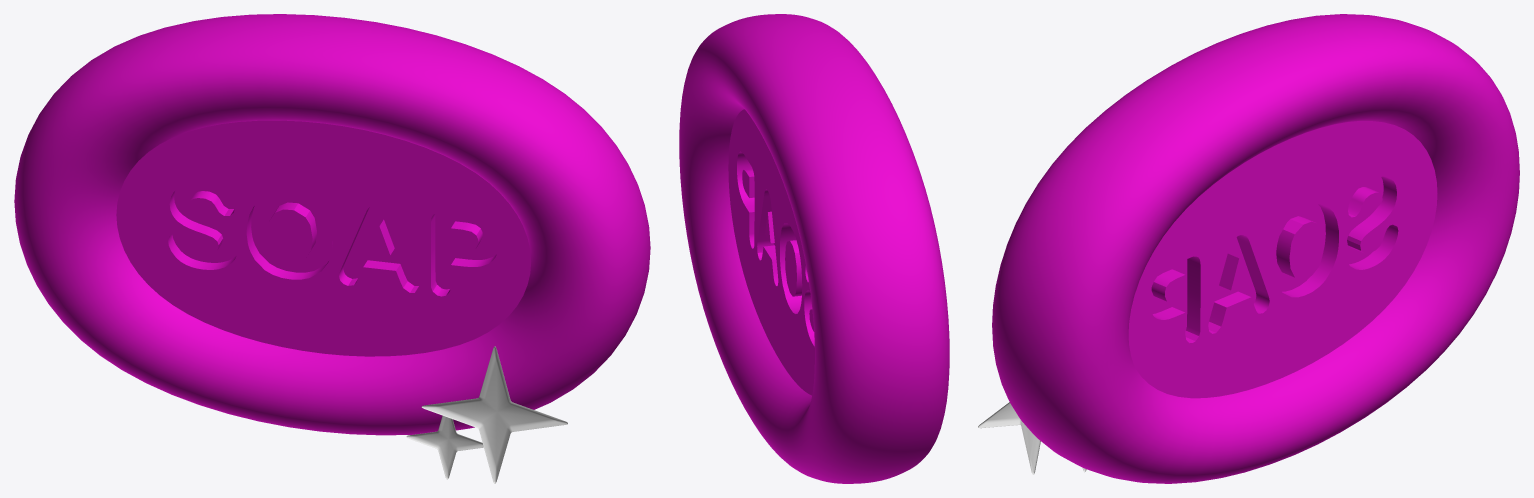
The model's file is 1. Soap.gltf.
3 renders of one model, left to right at view 1: azimuth 30°, elevation 25°; view 2: azimuth 150°, elevation 25°; view 3: azimuth 270°, elevation 25°, orthographic. The views are drawn at different scales.
Parts seen in each view (by area): view 1: Plane.001, Plane, Cube.001, Plane.029; view 2: Plane.001, Plane; view 3: Plane.001, Plane, Cube.001, Plane.029.
Boxes of the visible parts, <box> form: Plane.001: <box>14,14,650,435</box>; Plane: <box>116,120,530,356</box>; Cube.001: <box>172,183,498,289</box>; Plane.029: <box>406,346,567,483</box>; Plane.001: <box>679,14,949,483</box>; Plane: <box>728,109,814,395</box>; Plane.001: <box>992,14,1519,483</box>; Plane: <box>1128,121,1437,398</box>; Cube.001: <box>1149,177,1383,330</box>; Plane.029: <box>978,402,1086,474</box>.
Bounding box in the file's own units: 3.96 × 3.38 × 4.06.
